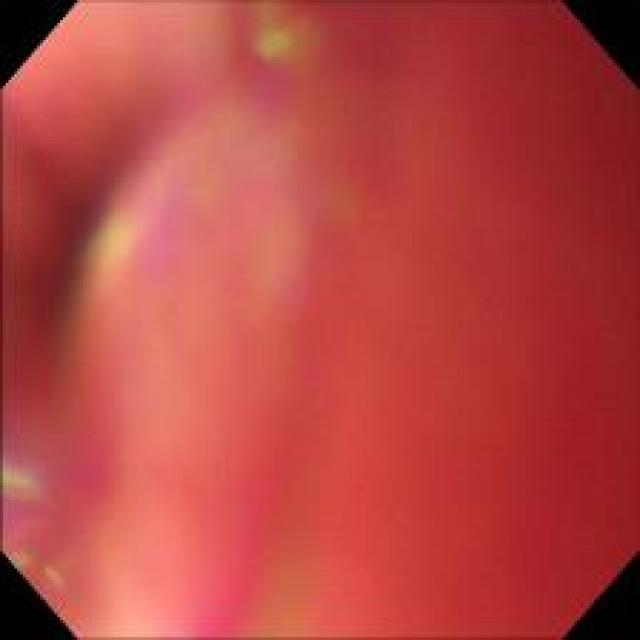blur: (2, 5, 638, 635)
color misalignment: (2, 9, 636, 632), (79, 96, 351, 326), (186, 375, 341, 639), (6, 404, 115, 620), (240, 0, 340, 96)
